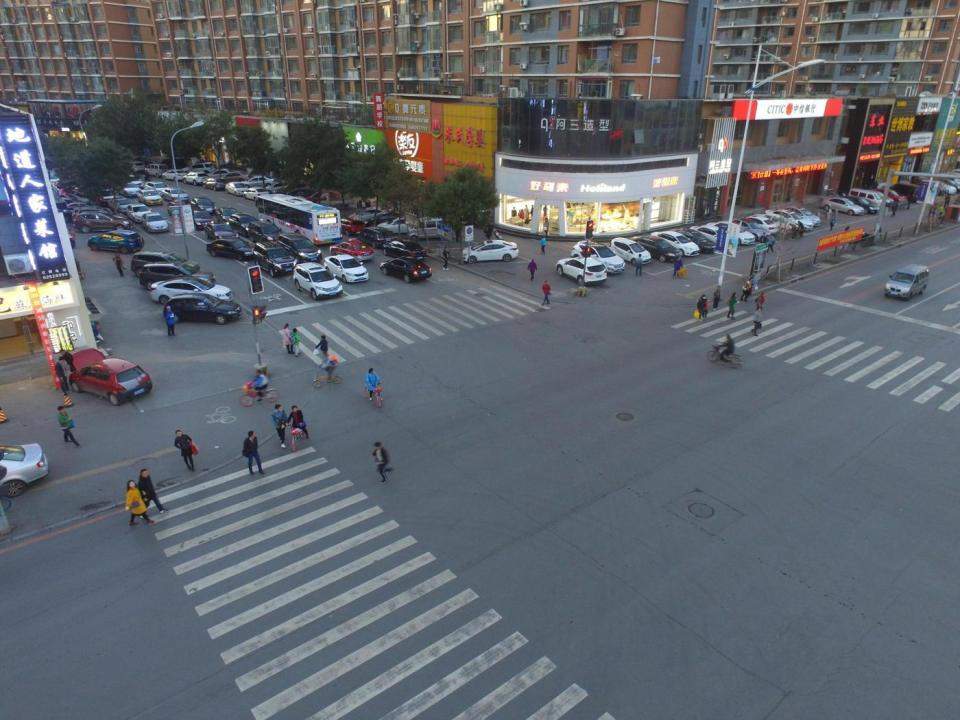bus: (256, 192, 343, 244)
car: (68, 347, 153, 405), (163, 292, 243, 327), (149, 277, 234, 309), (138, 262, 214, 292), (132, 251, 201, 280), (571, 240, 626, 274), (293, 262, 344, 298), (555, 255, 609, 286), (253, 241, 299, 276), (87, 227, 146, 254), (631, 234, 681, 264), (380, 255, 432, 283), (322, 255, 371, 284), (73, 211, 133, 234), (460, 240, 518, 262), (650, 230, 699, 256), (706, 219, 755, 245), (608, 238, 651, 267), (766, 210, 813, 236), (206, 235, 256, 259), (672, 227, 717, 253), (330, 238, 374, 264), (691, 224, 734, 250), (72, 206, 128, 224), (777, 204, 822, 226), (819, 195, 864, 217), (58, 205, 105, 224), (838, 193, 880, 214), (376, 216, 419, 236), (866, 185, 909, 204), (348, 208, 396, 225), (756, 211, 793, 233), (249, 221, 284, 244), (228, 212, 260, 237), (734, 218, 770, 240), (743, 214, 779, 236), (61, 201, 102, 220), (364, 211, 407, 229), (140, 210, 170, 234), (861, 188, 894, 209), (302, 190, 342, 207), (204, 222, 238, 241), (126, 202, 154, 224), (188, 208, 217, 229), (240, 174, 280, 189), (918, 178, 948, 198), (283, 187, 319, 203), (264, 180, 299, 196), (274, 182, 308, 198), (180, 162, 215, 177), (928, 177, 956, 195), (108, 194, 132, 214), (216, 205, 240, 225), (144, 180, 170, 198), (191, 196, 217, 214), (935, 175, 960, 193), (162, 186, 190, 202), (167, 199, 193, 216), (138, 188, 162, 206), (117, 180, 141, 198), (205, 168, 235, 182), (183, 170, 209, 186), (242, 187, 270, 201), (220, 171, 248, 184), (96, 186, 117, 203), (202, 176, 227, 190), (225, 181, 248, 196), (124, 172, 144, 189), (162, 169, 188, 181), (124, 158, 144, 173)
truck: (318, 192, 355, 210)
van: (884, 262, 931, 300), (278, 232, 322, 264), (406, 217, 454, 239), (850, 186, 885, 210), (891, 182, 922, 206), (144, 162, 170, 178)
